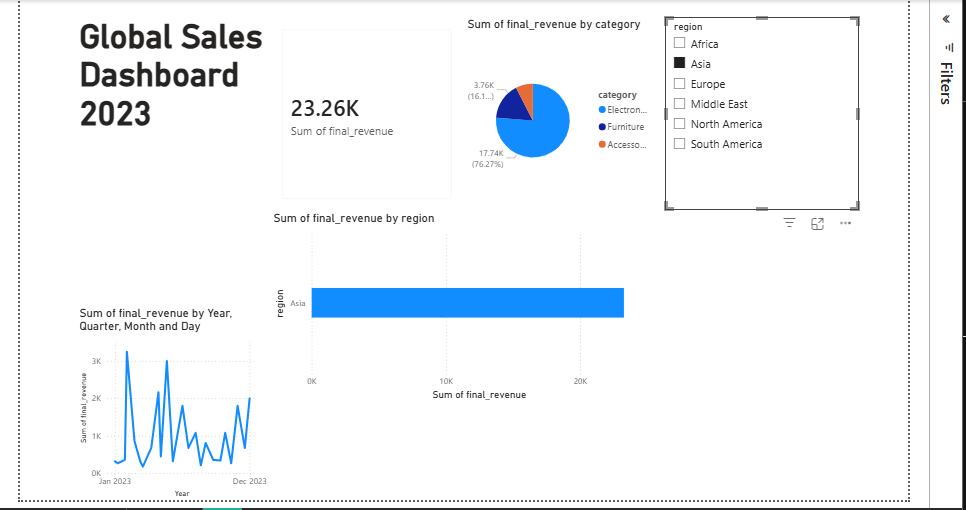

This screenshot's page, from the dashboard's own definition file:
{"tool":"powerbi","page":{"name":"Page 1","canvas":[1280,720],"ordinal":0},"visuals":[{"type":"cardVisual","fields":{"Data":["Sum(global_sale_cleaned.final_revenue)"]},"box":[360,24.5,279.4,279.4],"z":5000},{"type":"clusteredBarChart","fields":{"Category":["global_sale_cleaned.region"],"Y":["Sum(global_sale_cleaned.final_revenue)"]},"box":[360,303.3,558.3,276.7],"z":5250},{"type":"pieChart","fields":{"Category":["global_sale_cleaned.category"],"Y":["Sum(global_sale_cleaned.final_revenue)"]},"box":[639.4,24.5,279.4,279.4],"z":5375},{"type":"lineChart","fields":{"Category":["global_sale_cleaned.month_name.Variation.Date Hierarchy.Year","global_sale_cleaned.month_name.Variation.Date Hierarchy.Quarter","global_sale_cleaned.month_name.Variation.Date Hierarchy.Month","global_sale_cleaned.month_name.Variation.Date Hierarchy.Day"],"Y":["Sum(global_sale_cleaned.final_revenue)"]},"box":[80,440,280,280],"z":5437},{"type":"textbox","title":"Global Sales Dashboard 2023","box":[80,24,280,279],"z":5468},{"type":"slicer","fields":{"Values":["global_sale_cleaned.region"]},"box":[928.5,24,279,279],"z":5484}]}

Visuals, with their boxes on the page's 1280x720 design canvas (x1, y1, x2, y2). These are canvas units, not pixel positions in the 966x510 screenshot, which may show the page scaled, cropped or inside an application window:
cardVisual - Sum(global_sale_cleaned.final_revenue): pyautogui.locateOnScreen(360, 24, 639, 304)
clusteredBarChart - global_sale_cleaned.region x Sum(global_sale_cleaned.final_revenue): pyautogui.locateOnScreen(360, 303, 918, 580)
pieChart - global_sale_cleaned.category x Sum(global_sale_cleaned.final_revenue): pyautogui.locateOnScreen(639, 24, 919, 304)
lineChart - global_sale_cleaned.month_name.Variation.Date Hierarchy.Year x global_sale_cleaned.month_name.Variation.Date Hierarchy.Quarter: pyautogui.locateOnScreen(80, 440, 360, 720)
"Global Sales Dashboard 2023" textbox: pyautogui.locateOnScreen(80, 24, 360, 303)
slicer - global_sale_cleaned.region: pyautogui.locateOnScreen(928, 24, 1208, 303)
